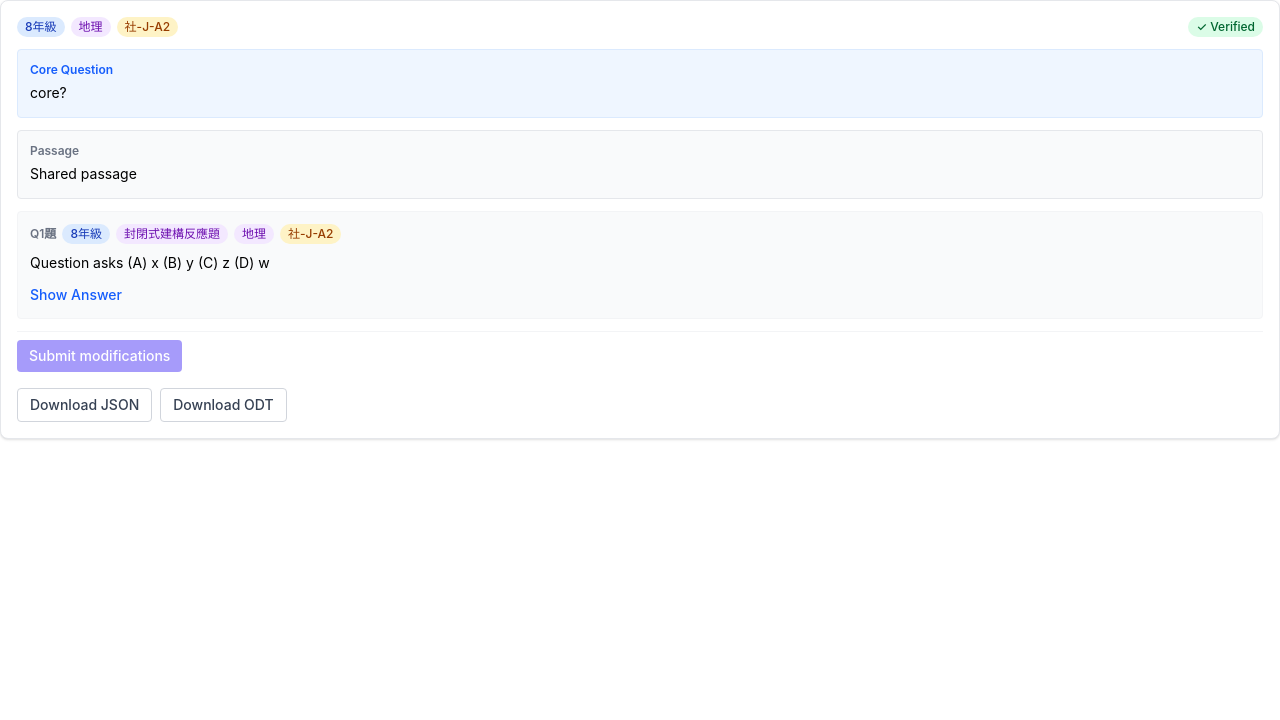
Scenario: QuestionCard rubric eras and legacy display › renders legacy rubric codes and a retired legacy question type read-only
The width and height of the screenshot is (1280, 720).
Expected: the text "封閉式建構反應題" is shown, [116,224,228,244]
Click the button "Show Answer". click: x=76, y=295
box: [30,285,122,305]
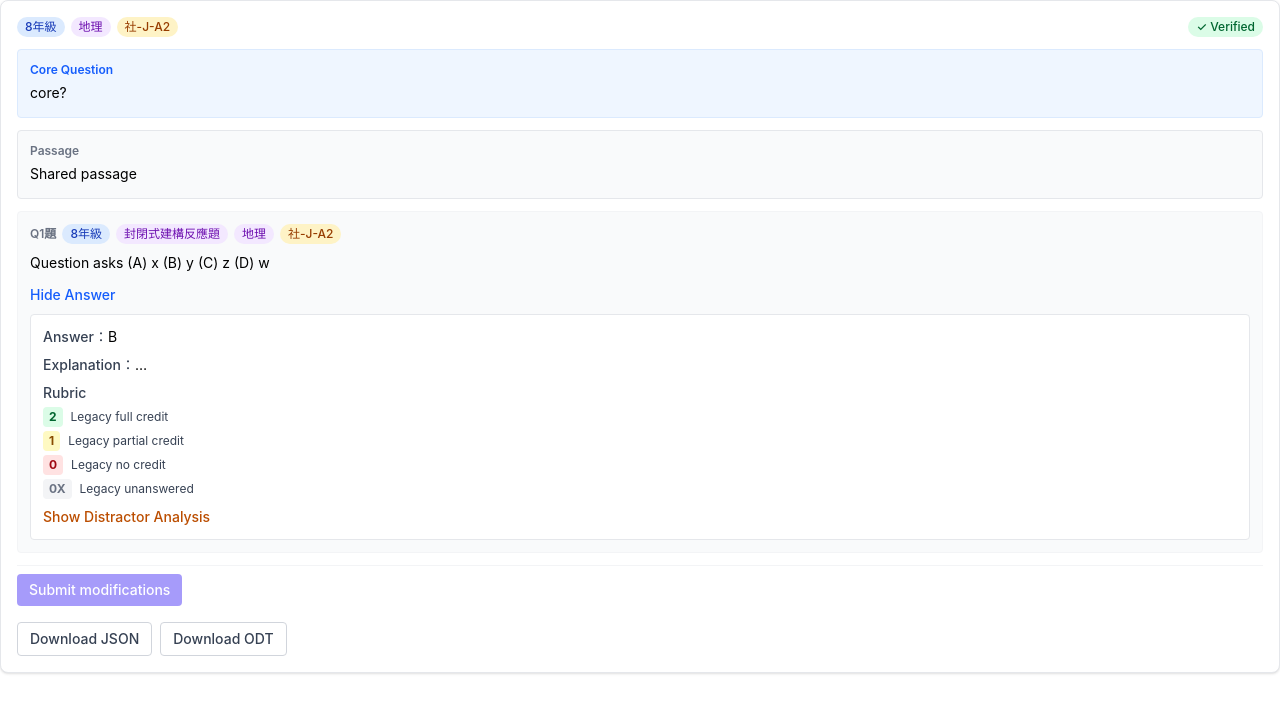
Expected: the text "2" is shown, [43,407,63,427]
Expected: the text "Legacy full credit" is shown, [71,407,168,427]
Expected: the text "1" is shown, [43,431,60,451]
